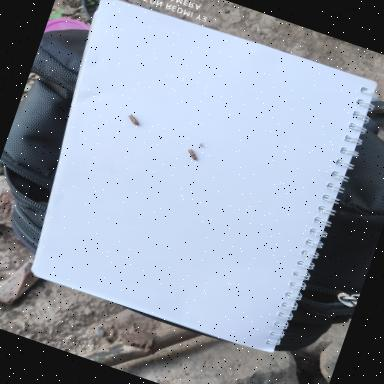pbw: (184, 147, 200, 162), (126, 113, 142, 127)
